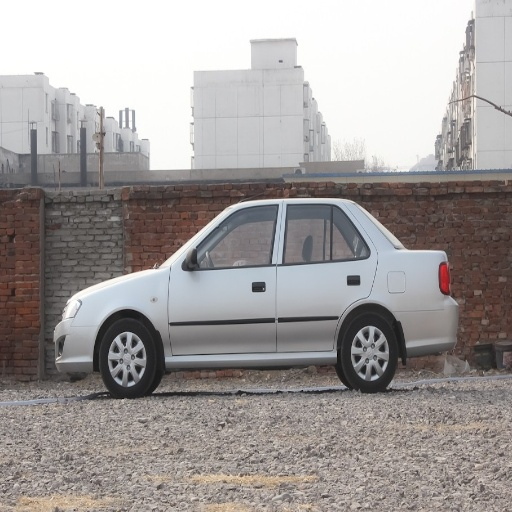back_bumper: (404, 304, 456, 357)
back_left_door: (276, 201, 377, 350)
front_left_door: (172, 202, 284, 354)
